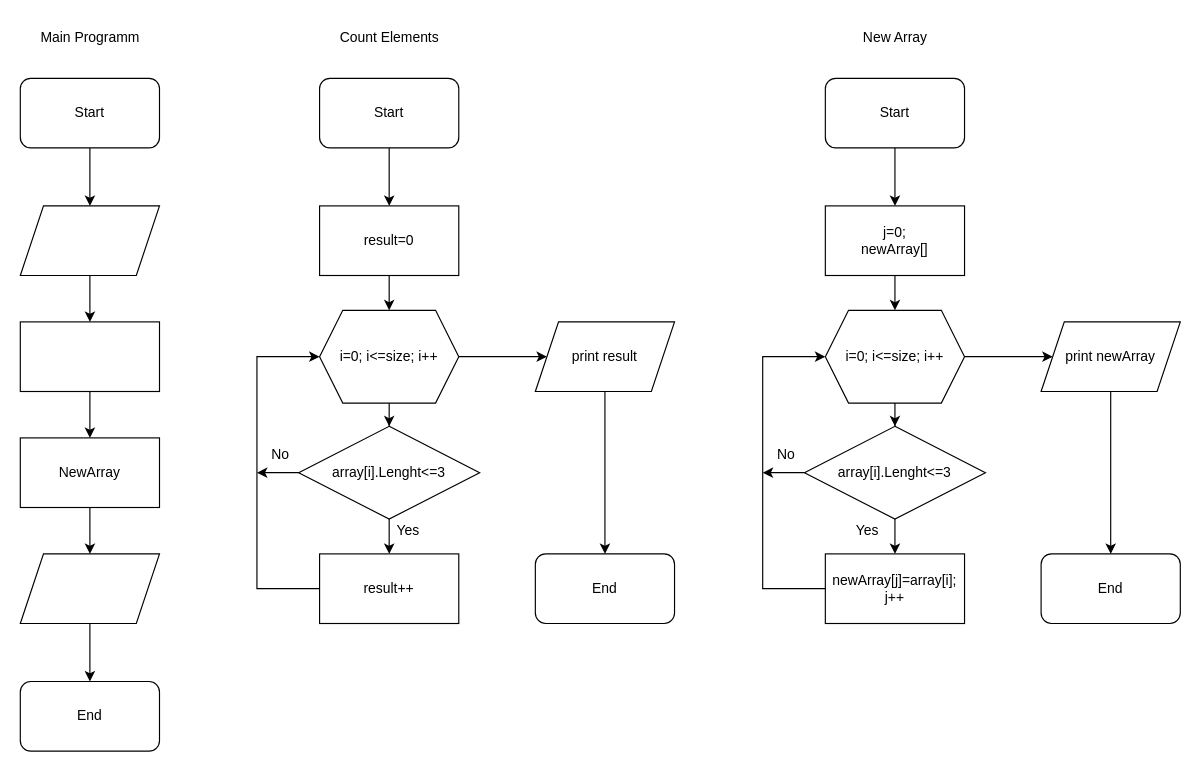
Image size: 1201x771. Some labels were removed from this diagram. The centre of each missing label's shape, as x and y in pixels:
"CountElements" goes at point (89, 356).
"InputArray" goes at point (89, 240).
"PrintArray" goes at point (89, 588).
